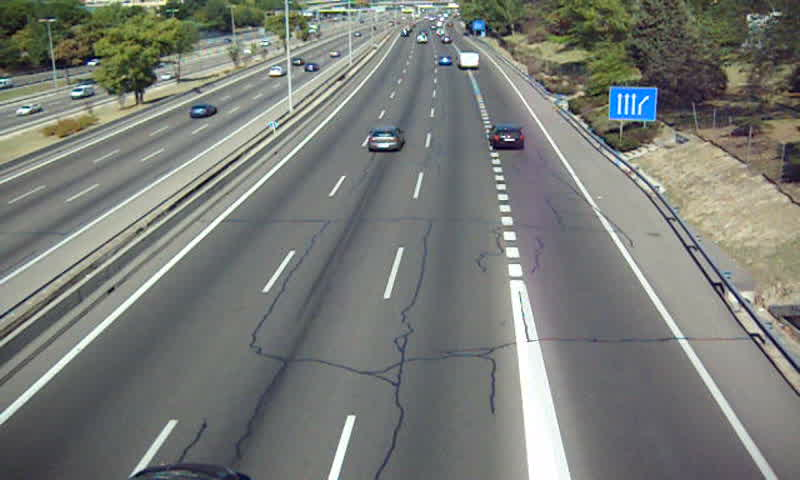car: (367, 125, 404, 152), (487, 125, 525, 149), (436, 53, 453, 66)
van: (458, 53, 480, 70)
